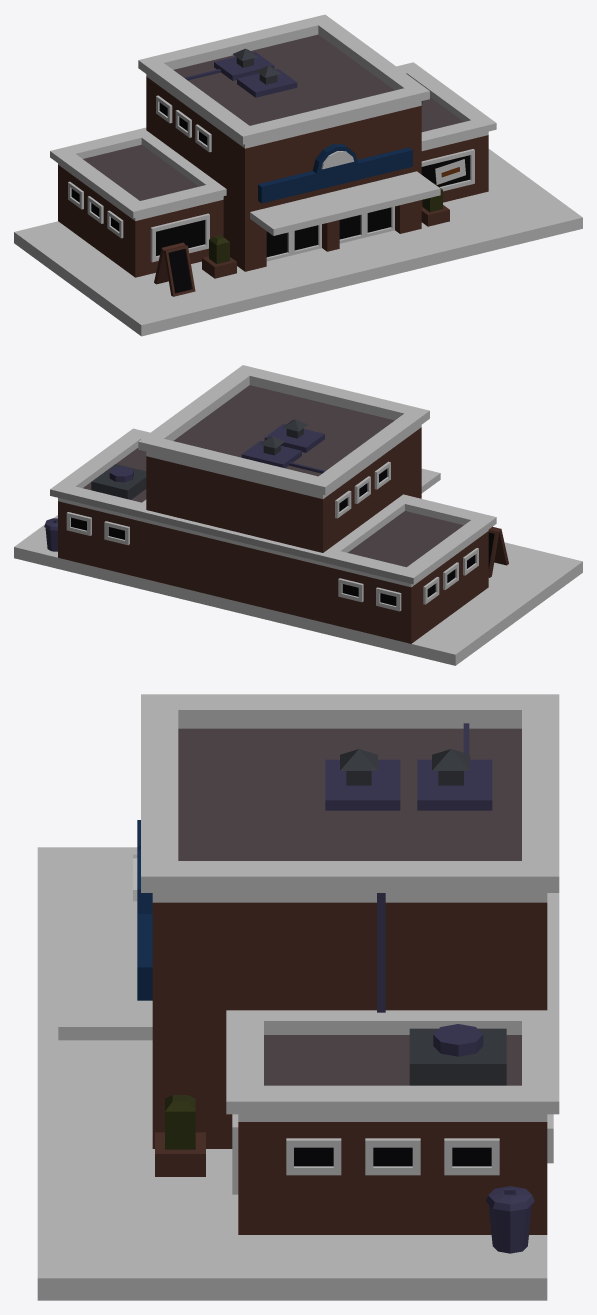
File: fang_01.FBX
3 renders of one model, top to bottom at view 1: azimuth 30°, elevation 25°; view 2: azimuth 150°, elevation 25°; view 3: azimuth 270°, elevation 25°, orthographic. The views are drawn at different scales.
Parts seen in each view (by area): view 1: fang_01; view 2: fang_01; view 3: fang_01.
Boxes of the visible parts, left/top/right/bottom form: fang_01: left=14, top=14, right=582, bottom=336; fang_01: left=14, top=365, right=582, bottom=665; fang_01: left=37, top=694, right=559, bottom=1300.
Bounding box in the file's own units: 2813 × 984 × 1439.
